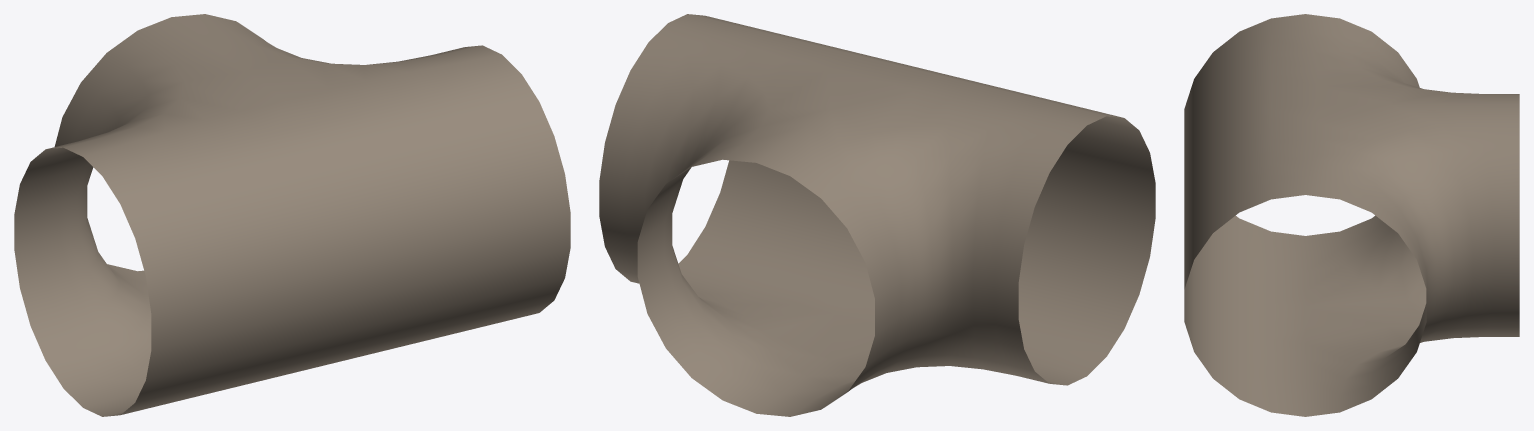
The model's file is mesh_TileTripleSalida.fbx.
3 renders of one model, left to right at view 1: azimuth 30°, elevation 25°; view 2: azimuth 150°, elevation 25°; view 3: azimuth 270°, elevation 25°, orthographic. The views are drawn at different scales.
Visible parts, largest first — view 1: mesh_TileTripleSalida; view 2: mesh_TileTripleSalida; view 3: mesh_TileTripleSalida.
Part boxes in pixels (box(x1,y1,x2,y2)): mesh_TileTripleSalida: box(14, 14, 570, 416); mesh_TileTripleSalida: box(599, 14, 1155, 416); mesh_TileTripleSalida: box(1184, 14, 1519, 416).
Bounding box in the file's own units: 2766 × 1582 × 2166.
